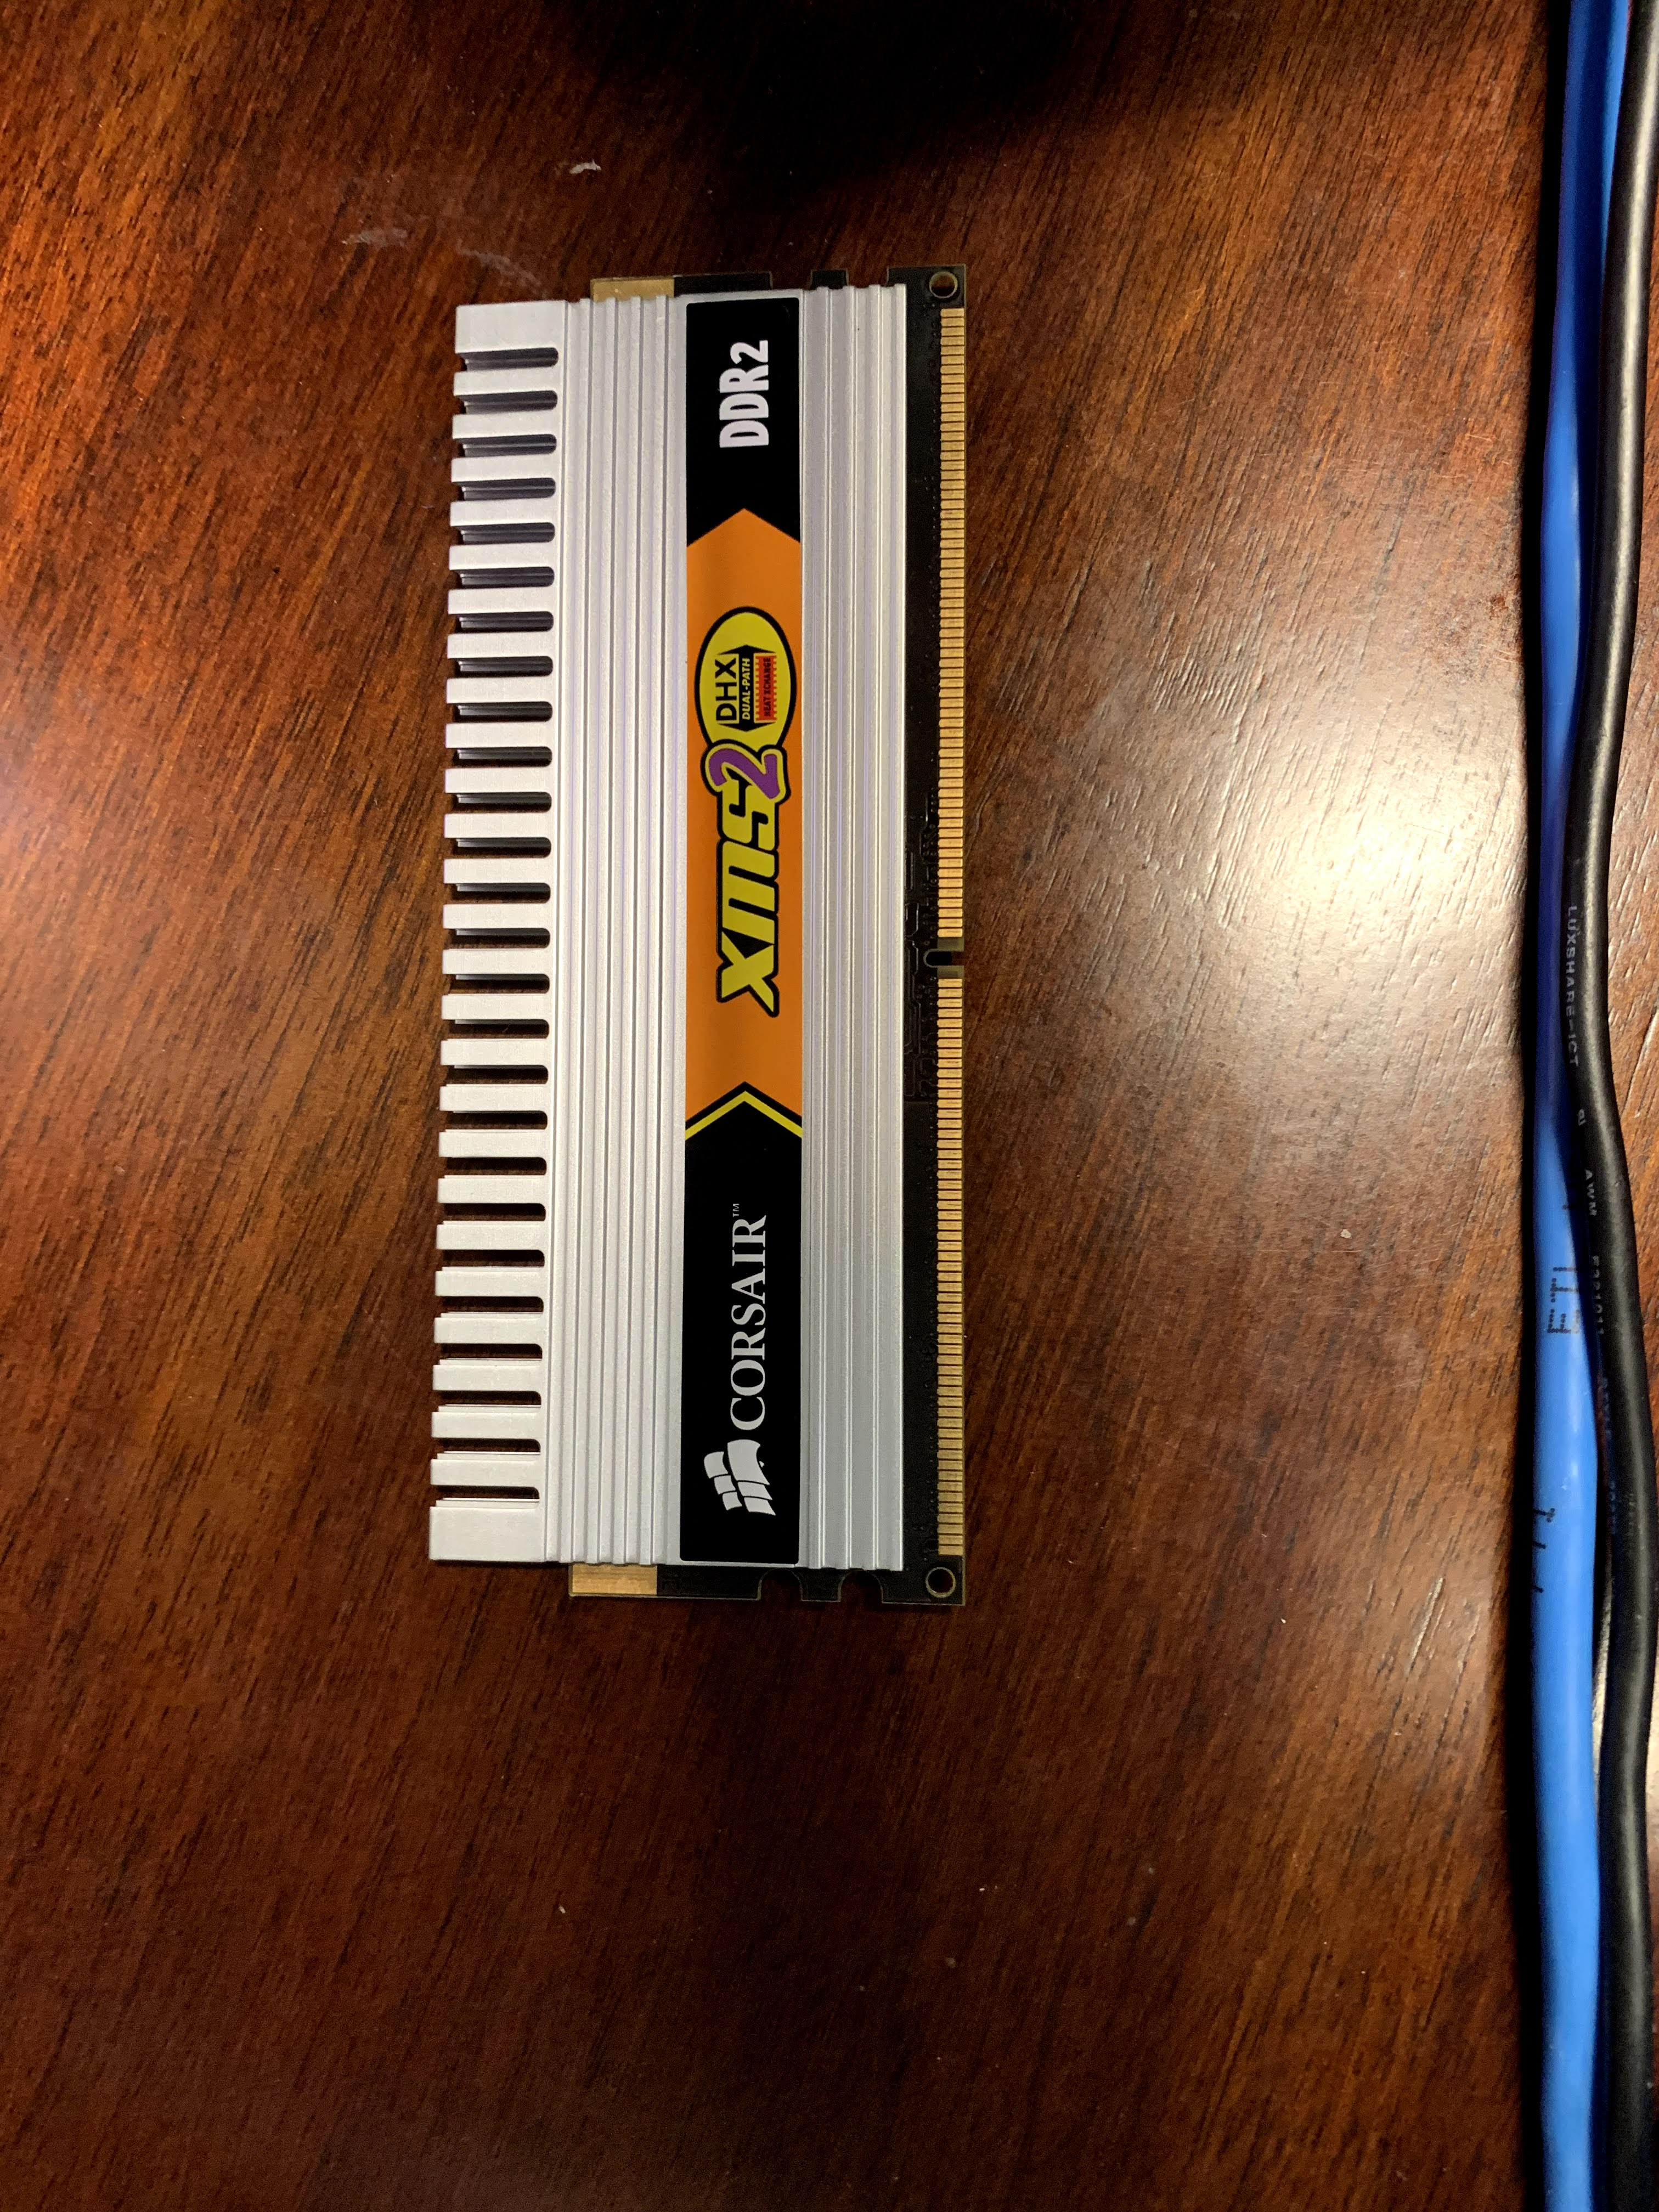Space-debris-medium: (429, 223, 1000, 1620)
